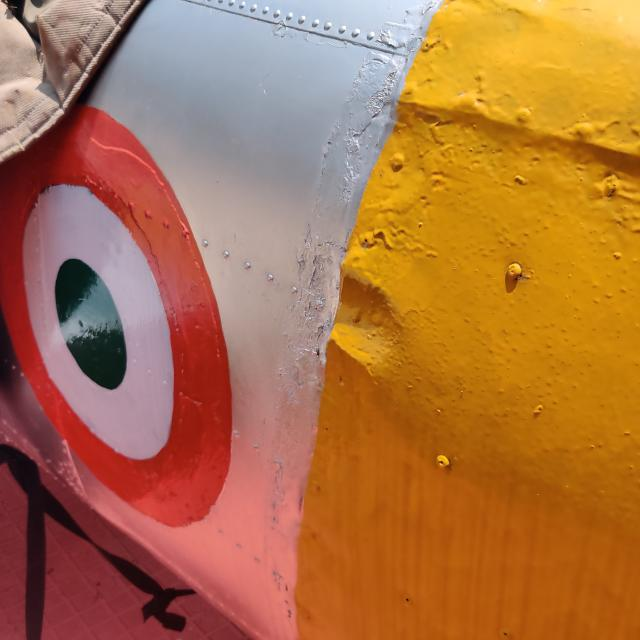dent: (294, 256, 429, 401)
